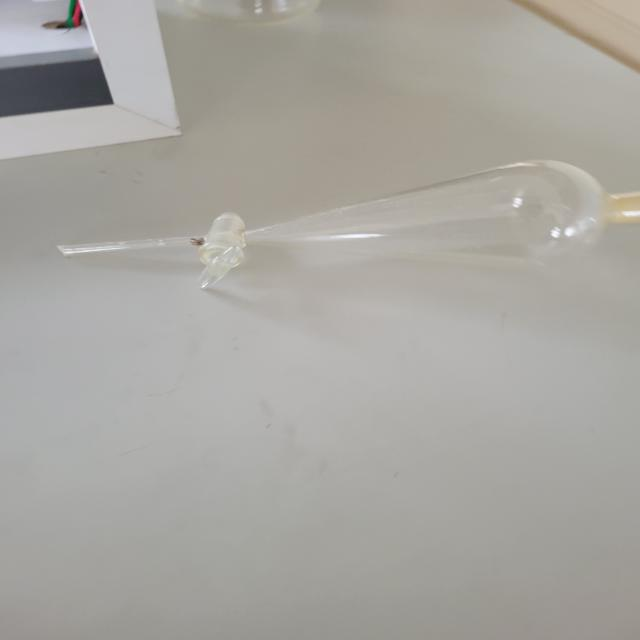Separating_Funnel: (45, 154, 640, 323)
